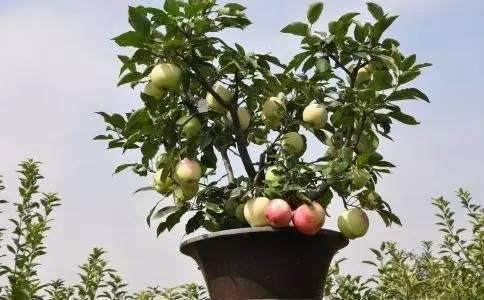apple: (289, 200, 324, 235), (336, 206, 368, 239), (149, 61, 180, 92), (263, 197, 292, 228), (175, 156, 202, 187), (221, 108, 251, 135), (279, 129, 307, 157), (261, 97, 287, 124), (207, 82, 233, 109), (301, 99, 326, 127)
